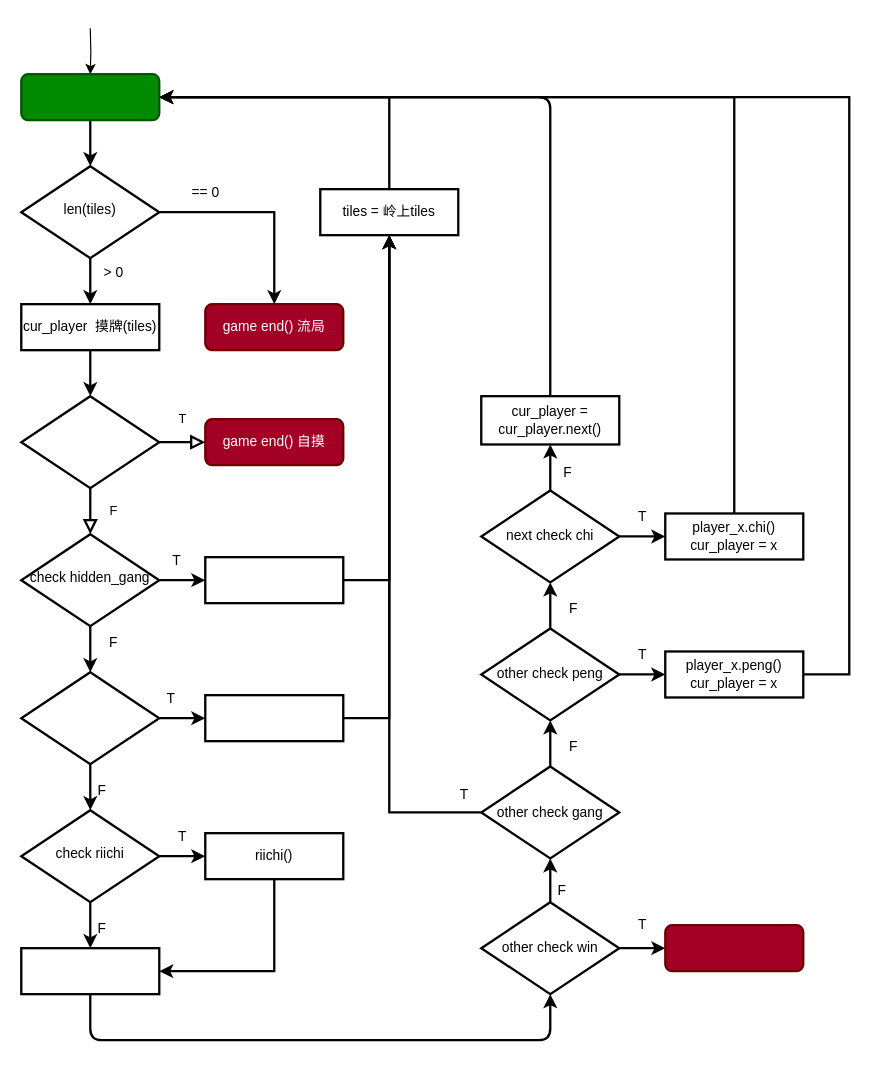
Image size: 879x1071. Some labels were removed from this diagram. Here are the shapes that lost their labels. From the top down, the centre of each, then its label:
At pixel 90 96: "game(cur_player, tiles)".
At pixel 90 441: "check win".
At pixel 274 579: "hidden_gang()".
At pixel 90 717: "check add_gang".
At pixel 274 717: "add_gang()".
At pixel 734 947: "game end() 荣和".
At pixel 90 970: "discard()".
